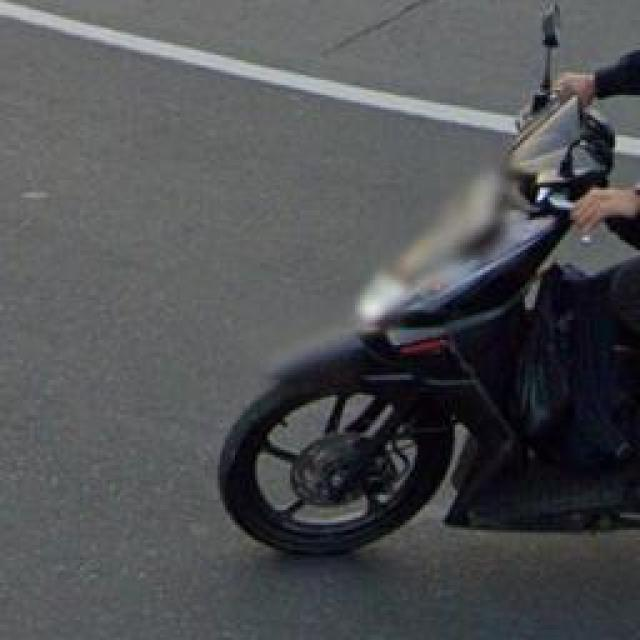Motor: (215, 20, 638, 558)
